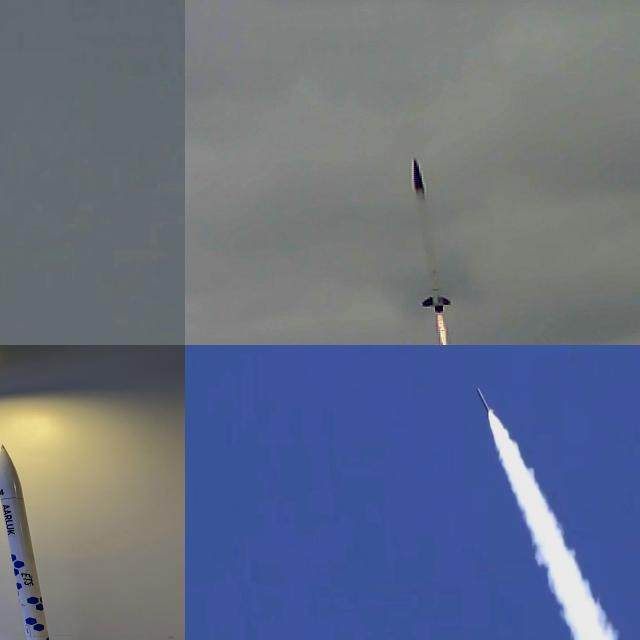Rocket: (0, 444, 49, 640), (410, 158, 451, 314), (477, 388, 492, 418)
